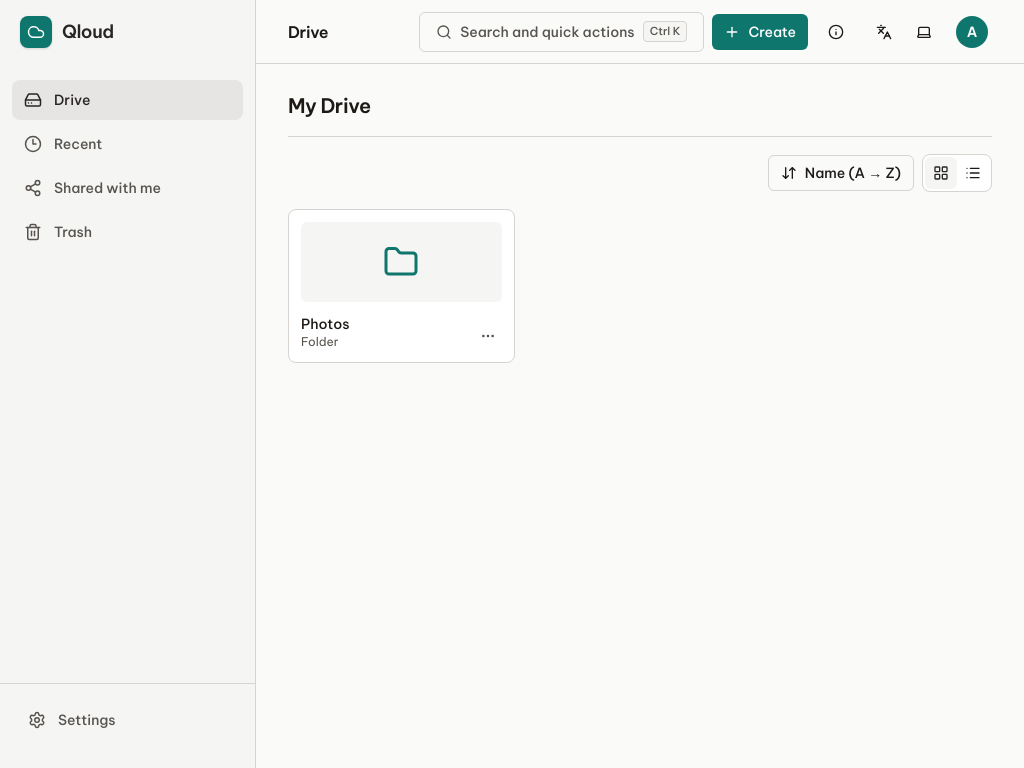
Test case: Drive (S-05) › updates double click behavior when the primary input capability changes
Double-click the element with test id "folder-content" at (401, 286), box x1=288 y1=209 x2=515 y2=363
Double-click the option "Photos Folder" at (401, 286), box x1=288 y1=209 x2=515 y2=363
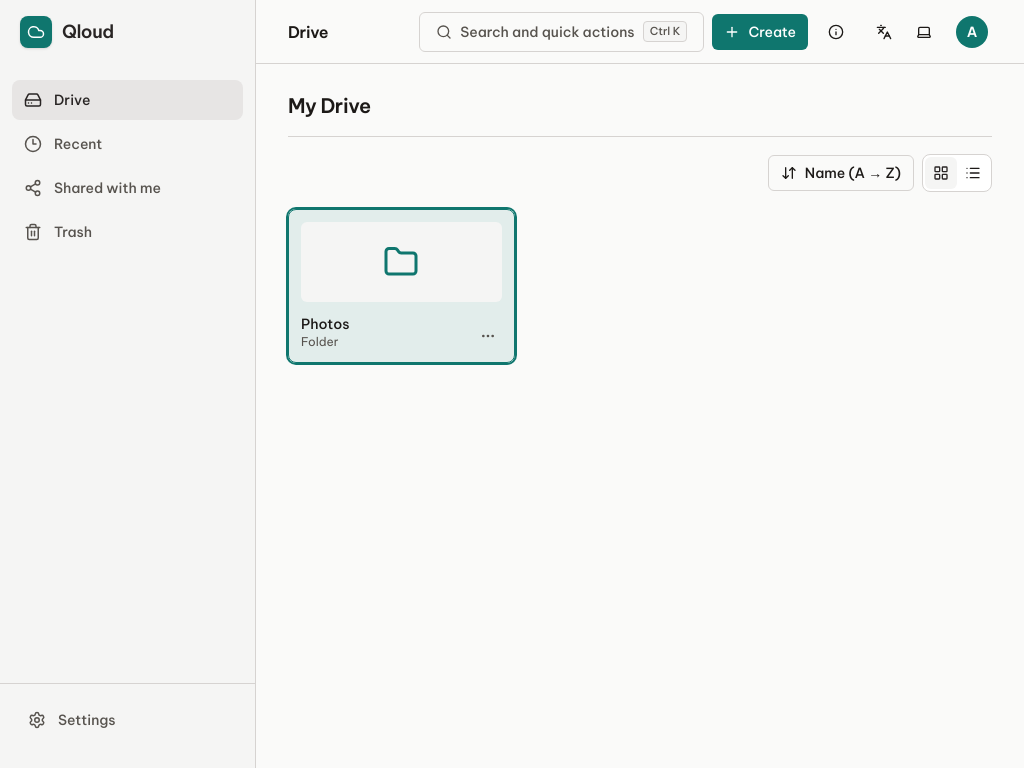
Double-click the element with test id "folder-content" at (401, 286), box x1=288 y1=209 x2=515 y2=363
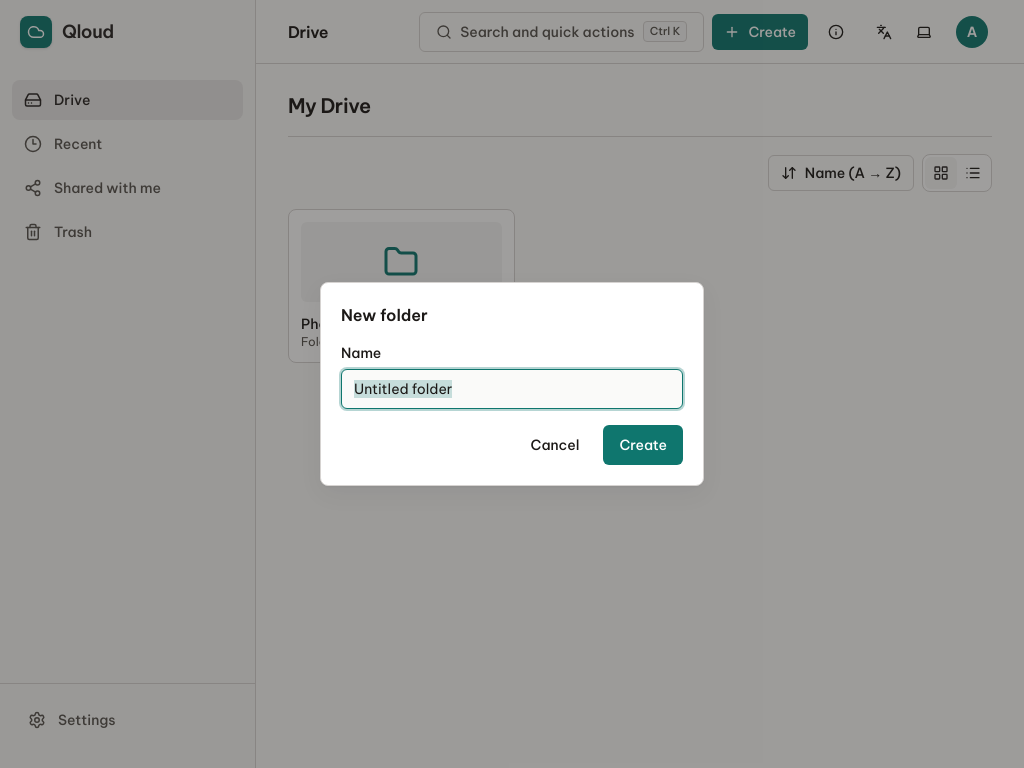
Check: the dialog "New folder" is shown, box x1=320 y1=282 x2=704 y2=486
Press Escape
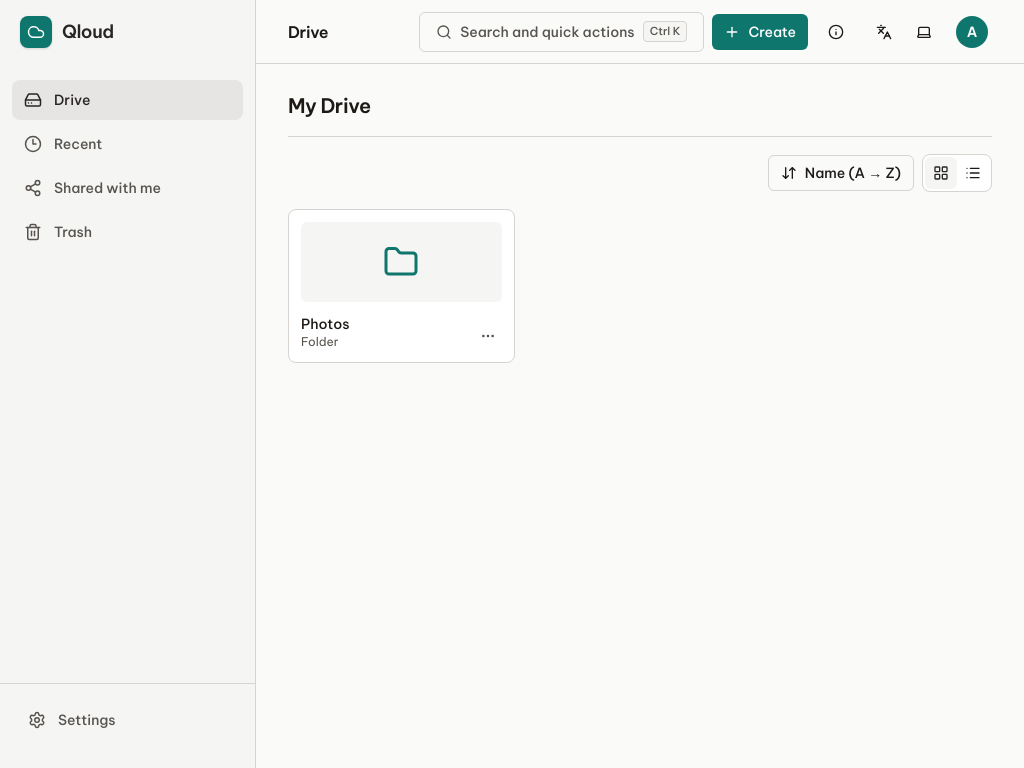
Double-click the option "Photos Folder" at (401, 286), box x1=288 y1=209 x2=515 y2=363
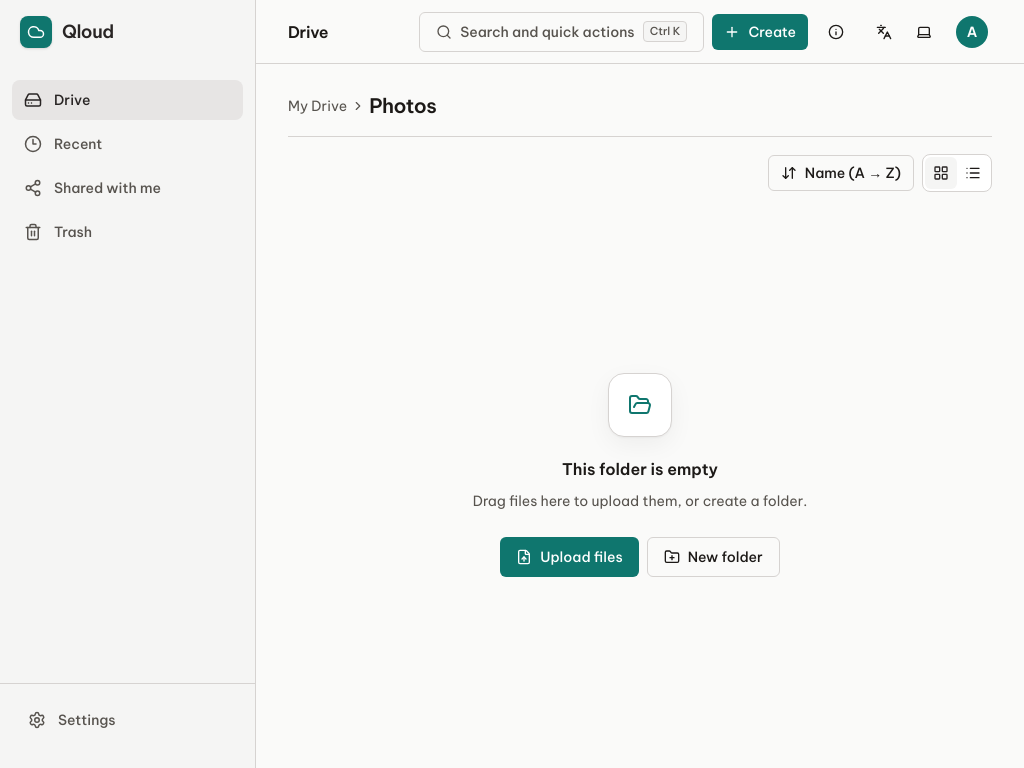
Check: the heading "Photos" is shown, box x1=369 y1=92 x2=436 y2=120
